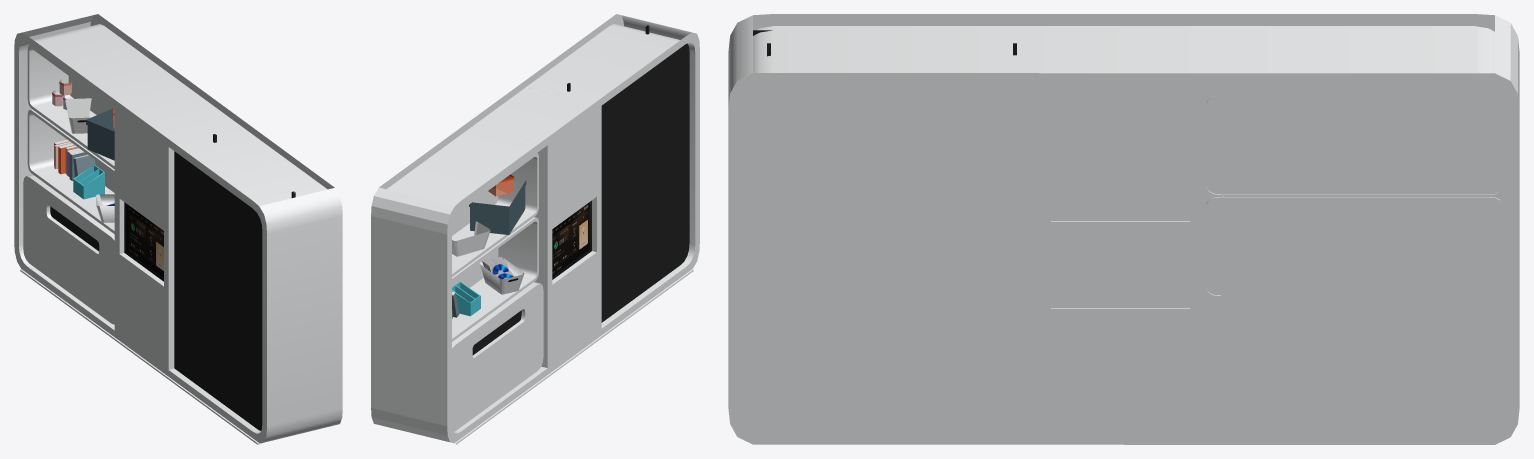
File: M_BRyigui02.FBX
3 views of the same model, side by side, from view 1: azimuth 30°, elevation 25°; view 2: azimuth 150°, elevation 25°; view 3: azimuth 270°, elevation 25° (orthographic). The views are drawn at different scales.
Parts seen in each view (by area): view 1: M_BRyigui02_01, M_BRyigui02_05, M_BRyigui02_03, M_BRyigui02_04, M_BRyigui02_02; view 2: M_BRyigui02_01, M_BRyigui02_05, M_BRyigui02_04, M_BRyigui02_03, M_BRyigui02_02, M_BRyigui02_07; view 3: M_BRyigui02_01.
Part boxes in pixels (bbox=[...]): M_BRyigui02_01: bbox=[14, 14, 342, 443]; M_BRyigui02_05: bbox=[73, 151, 262, 430]; M_BRyigui02_03: bbox=[52, 79, 114, 180]; M_BRyigui02_04: bbox=[124, 202, 163, 281]; M_BRyigui02_02: bbox=[20, 150, 260, 444]; M_BRyigui02_01: bbox=[371, 14, 699, 443]; M_BRyigui02_05: bbox=[452, 43, 689, 322]; M_BRyigui02_04: bbox=[552, 200, 591, 279]; M_BRyigui02_03: bbox=[452, 174, 526, 318]; M_BRyigui02_02: bbox=[455, 43, 693, 444]; M_BRyigui02_07: bbox=[482, 256, 514, 279]; M_BRyigui02_01: bbox=[728, 14, 1519, 444].
Size of the model in its own units: 1.28 by 3.75 by 7.19.
